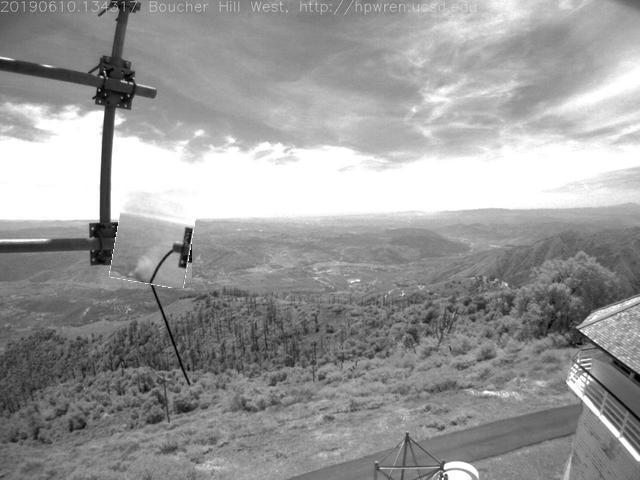smoke: (115, 167, 199, 288)
